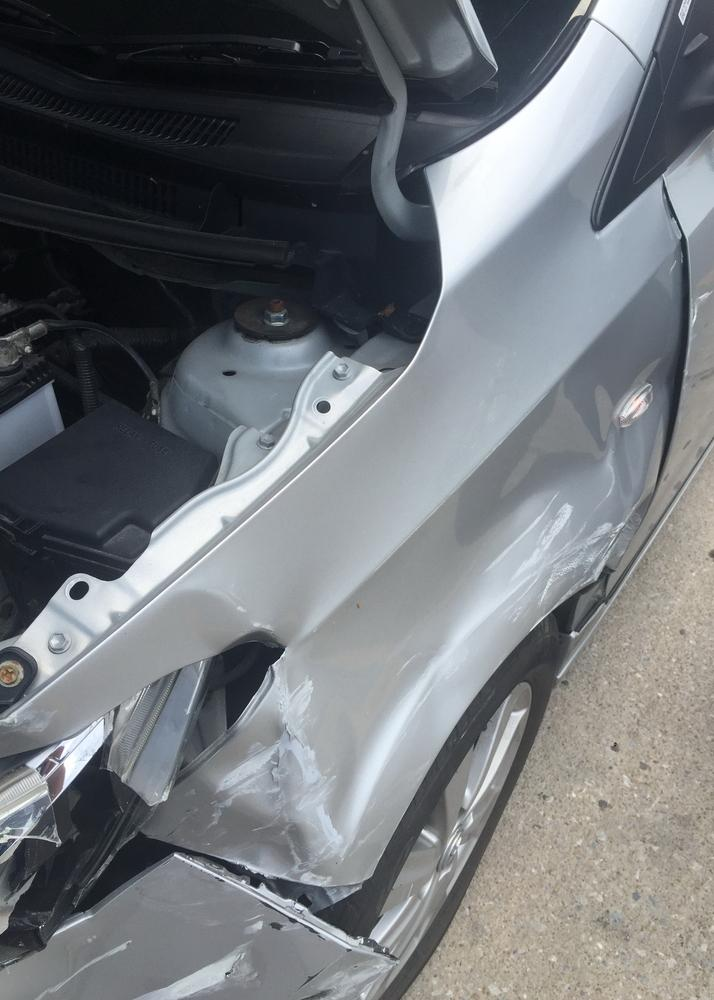dent: (205, 384, 621, 881)
lamp broken: (0, 674, 202, 950)
scratch: (31, 902, 386, 1000)
